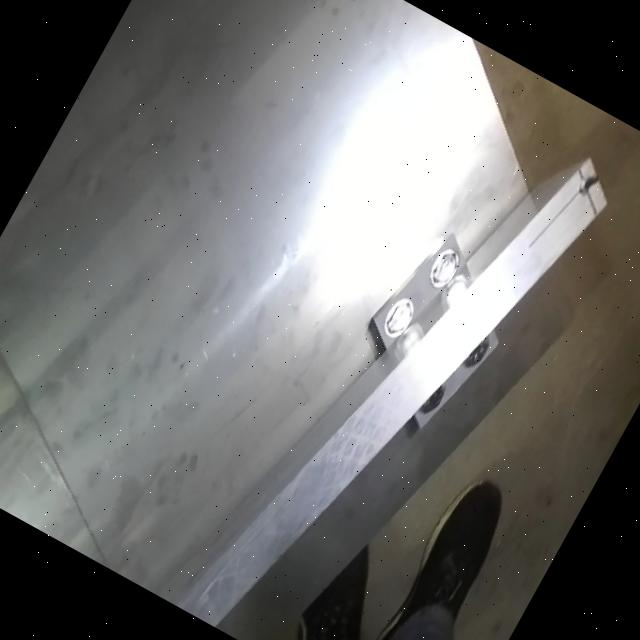blocks: (317, 207, 538, 452)
